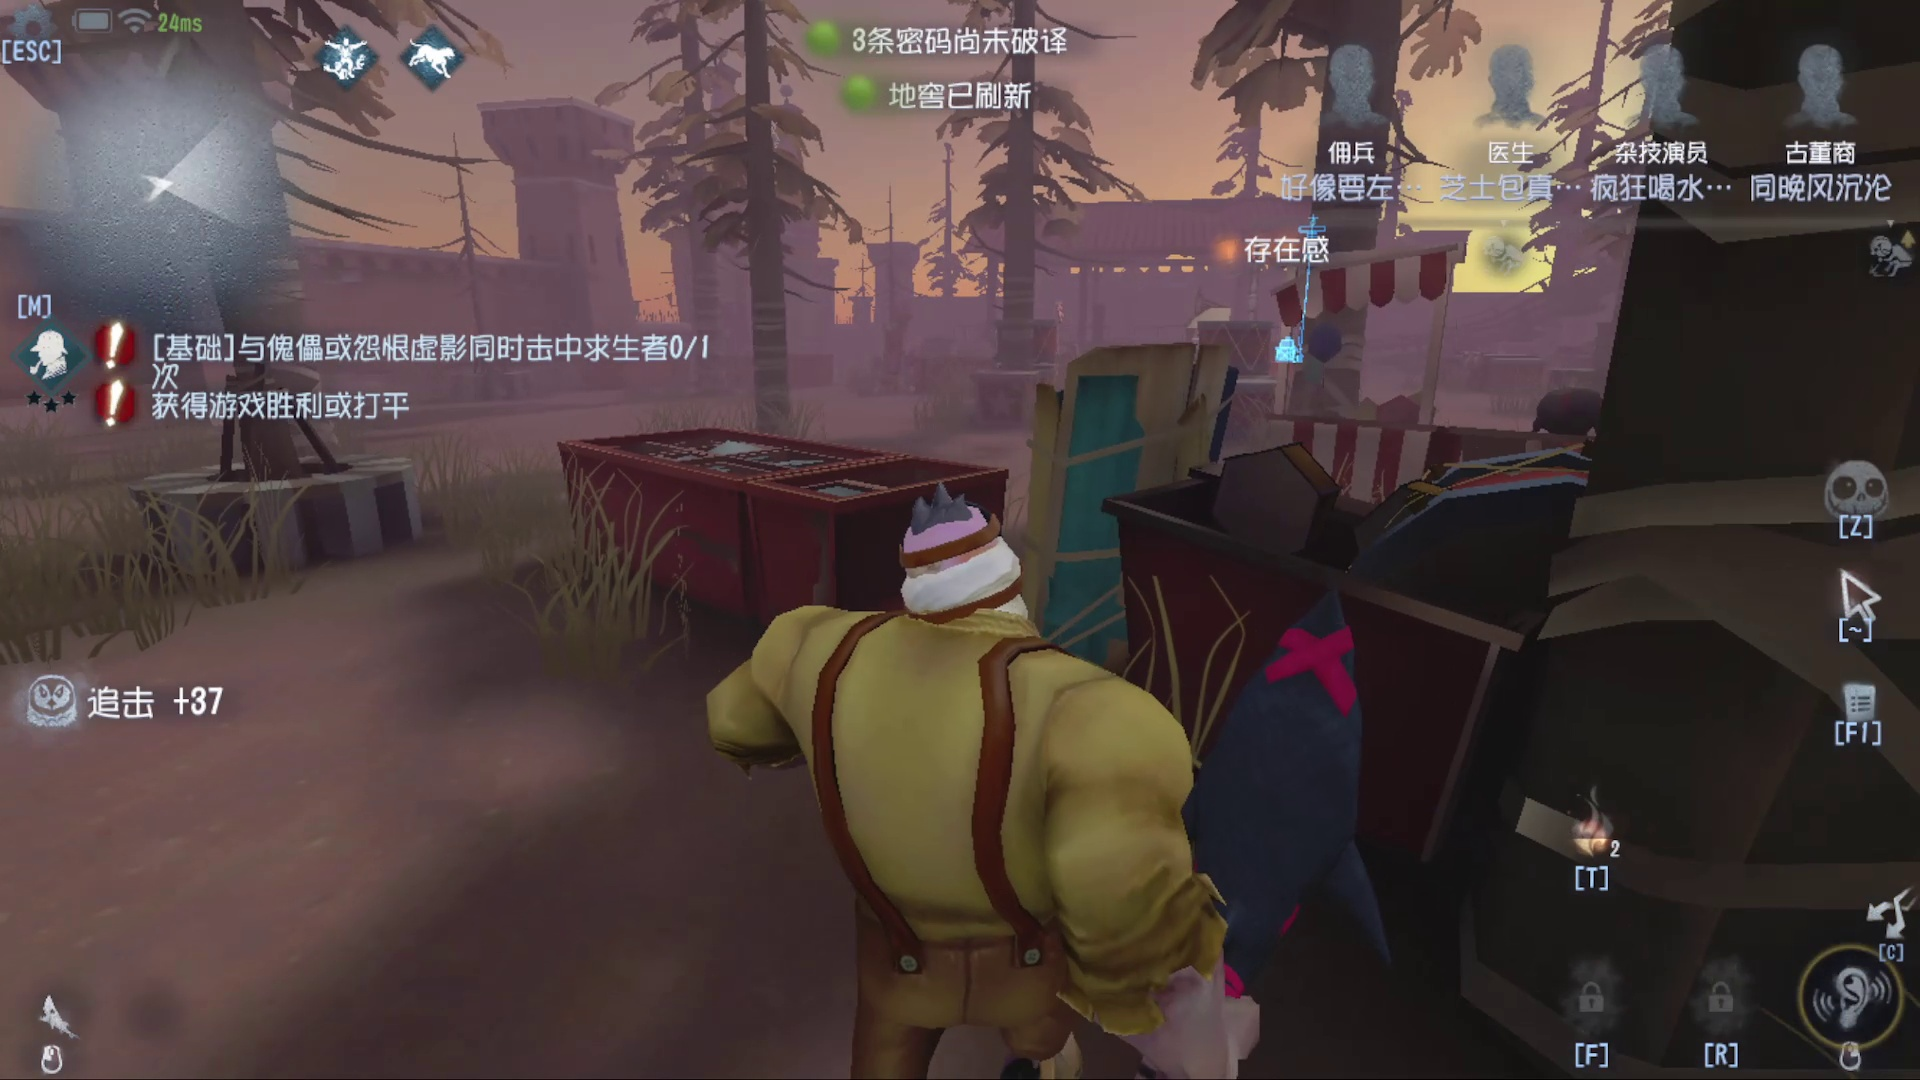密码机: (1282, 211, 1333, 375)
木板: (1000, 340, 1261, 604)
狂欢之椅: (865, 291, 914, 407)
